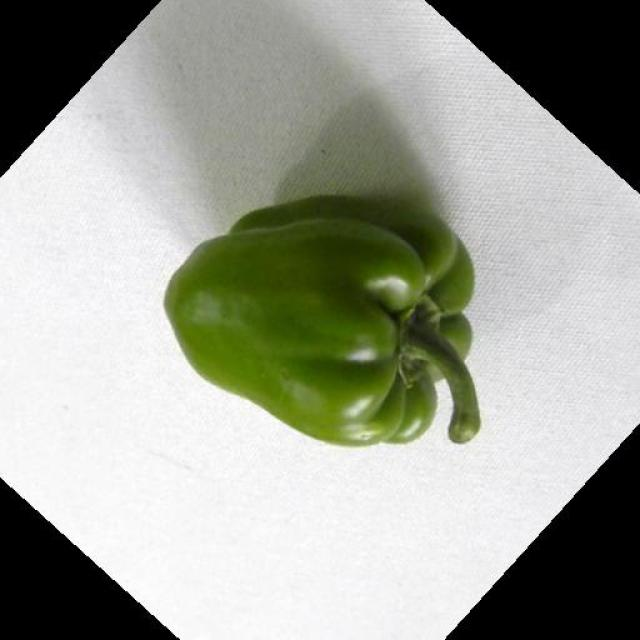Fresh_Capsicum: (166, 199, 476, 454)
